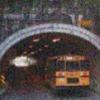buses: (45, 52, 92, 92)
